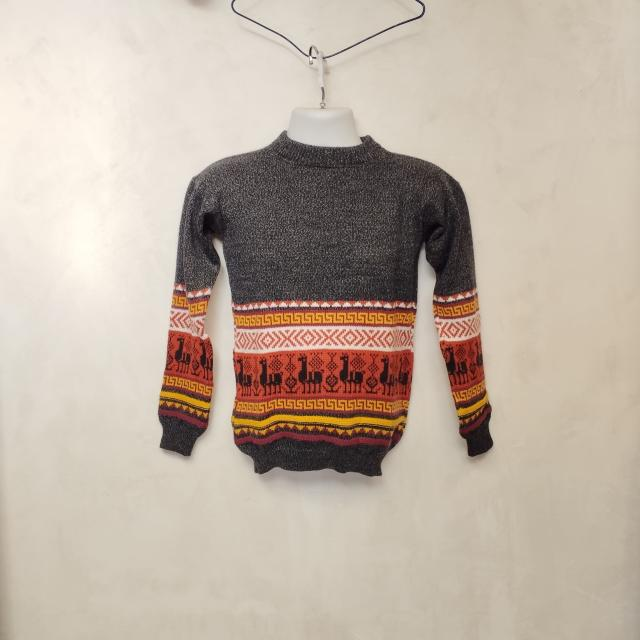Chompa: (157, 116, 494, 478)
